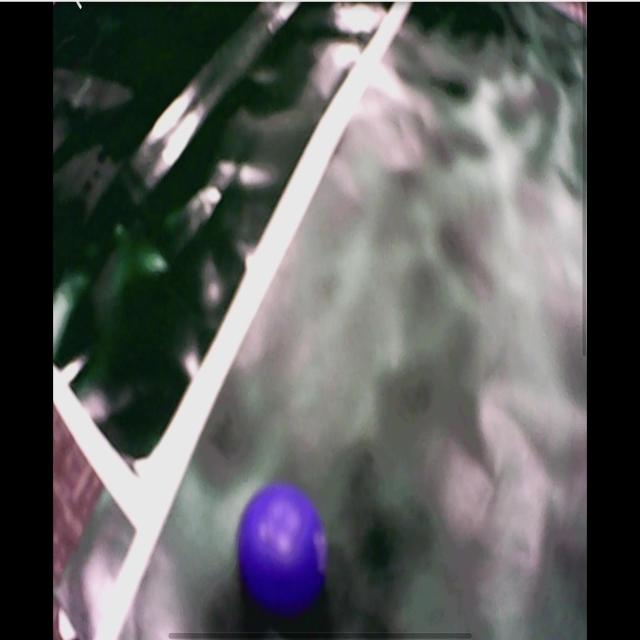ball: (239, 490, 323, 609)
